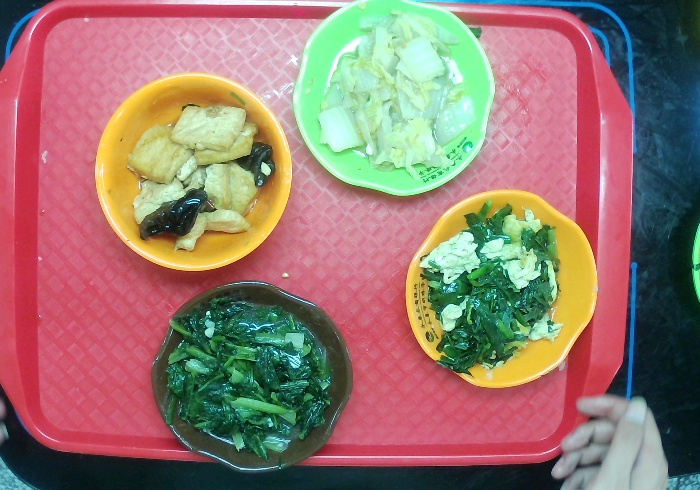YKMZ-Ju_Se_Ao_Bian_Wan: (403, 187, 599, 391)
YKMZ-Ju_Se_Yuan_Wan: (93, 71, 293, 275)
YKMZ-Ka_Fei_Ao_Bian_Wan: (147, 276, 355, 477)
YKMZ-Lv_Se_Ao_Bian_Wan: (290, 1, 498, 200)
